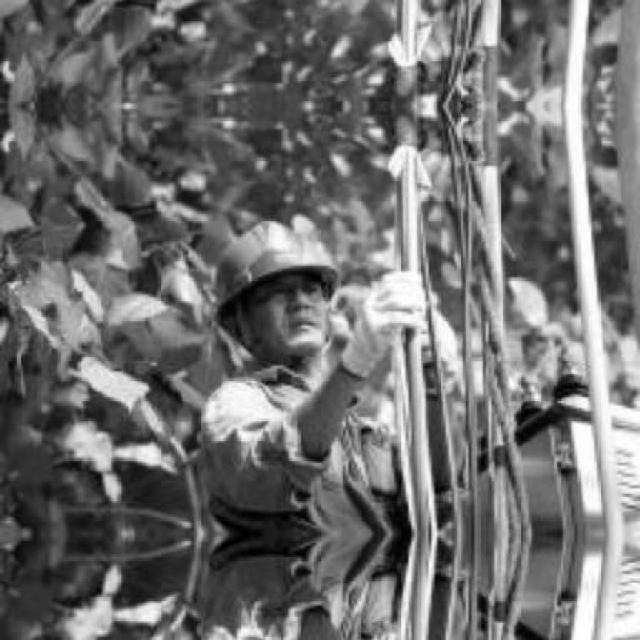hat: (197, 208, 357, 379)
